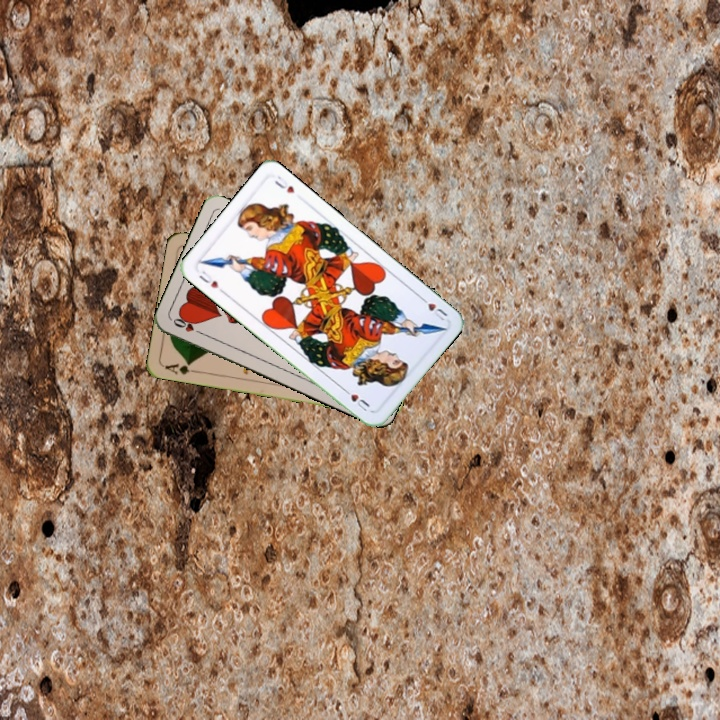GA: (161, 358, 201, 377)
HO: (169, 314, 207, 338)
HU: (416, 292, 450, 323), (195, 267, 227, 296)
